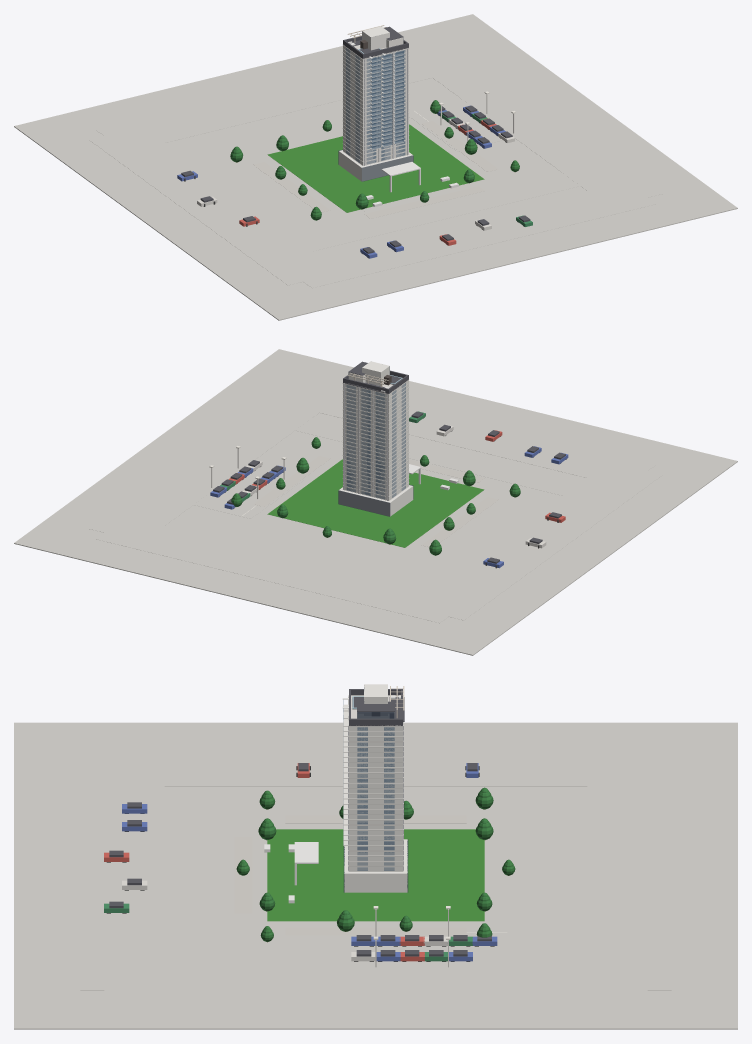
Rendered from building.glb.
The picture shows the model from 3 angles, top to bottom: view 1: azimuth 30°, elevation 25°; view 2: azimuth 150°, elevation 25°; view 3: azimuth 270°, elevation 25°; orthographic projection. The views are drawn at different scales.
Parts seen in each view (by area): view 1: Ground, Road_Front, Road_Right, Road_Left, Road_Back, Grass, TowerCore, Road, ParkingLot, Podium, Pavement_0_-22, Pavement_22_0 (+3 smaller); view 2: Ground, Road_Right, Road_Back, Road_Left, Road_Front, Grass, TowerCore, Road, ParkingLot, Podium, LobbyGlass_B, Pavement_22_0 (+1 smaller); view 3: Ground, Road_Right, Road_Front, Road_Back, Road_Left, Grass, Road, TowerCore, ParkingLot, Podium, Pavement_22_0, Pavement_0_-22 (+2 smaller).
Boxes of the visible parts, x1=… form: Ground: x1=14, y1=14, x2=737, y2=320; Road_Front: x1=281, y1=183, x2=655, y2=288; Road_Right: x1=411, y1=48, x2=662, y2=199; Road_Left: x1=89, y1=127, x2=339, y2=285; Road_Back: x1=96, y1=46, x2=465, y2=152; Grass: x1=267, y1=124, x2=484, y2=212; TowerCore: x1=343, y1=45, x2=408, y2=165; Road: x1=295, y1=173, x2=580, y2=251; ParkingLot: x1=409, y1=99, x2=502, y2=151; Podium: x1=338, y1=150, x2=413, y2=181; Pavement_0_-22: x1=364, y1=186, x2=484, y2=218; Pavement_22_0: x1=421, y1=121, x2=498, y2=171; Ground: x1=14, y1=349, x2=737, y2=655; Road_Right: x1=89, y1=383, x2=339, y2=538; Road_Back: x1=96, y1=520, x2=469, y2=623; Road_Left: x1=411, y1=465, x2=662, y2=620; Road_Front: x1=282, y1=381, x2=655, y2=487; Grass: x1=267, y1=459, x2=484, y2=547; TowerCore: x1=343, y1=380, x2=408, y2=500; Road: x1=295, y1=417, x2=579, y2=495; ParkingLot: x1=194, y1=469, x2=303, y2=518; Podium: x1=338, y1=485, x2=413, y2=516; LobbyGlass_B: x1=338, y1=490, x2=390, y2=516; Pavement_22_0: x1=253, y1=456, x2=330, y2=506; Ground: x1=14, y1=722, x2=737, y2=1029; Road_Right: x1=104, y1=964, x2=647, y2=1000; Road_Front: x1=80, y1=760, x2=164, y2=990; Road_Back: x1=587, y1=760, x2=671, y2=990; Road_Left: x1=104, y1=750, x2=647, y2=786; Grass: x1=267, y1=829, x2=484, y2=921; Road: x1=183, y1=786, x2=231, y2=964; TowerCore: x1=349, y1=726, x2=402, y2=871; ParkingLot: x1=364, y1=926, x2=508, y2=964; Podium: x1=344, y1=839, x2=407, y2=892; Pavement_22_0: x1=285, y1=927, x2=466, y2=935; Pavement_0_-22: x1=234, y1=837, x2=252, y2=913.
Bounding box in the file's own units: 120 × 34 × 120.
